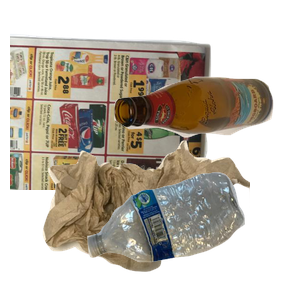glass: (111, 74, 300, 204)
paper: (10, 31, 214, 211)
plastic: (85, 170, 300, 300)
trash: (40, 138, 280, 300)
